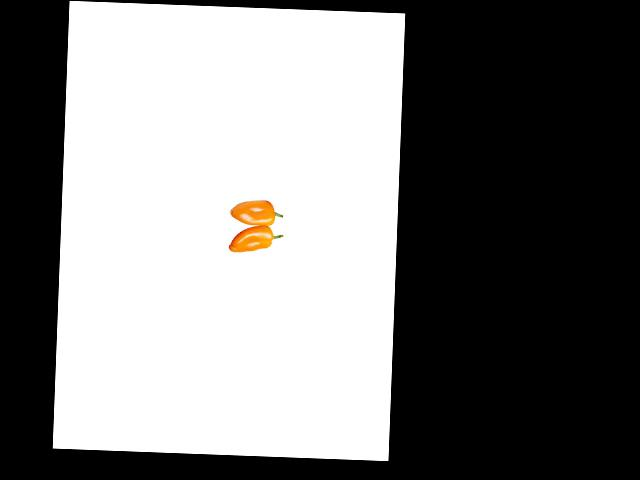bell_pepper: (219, 193, 284, 227)
